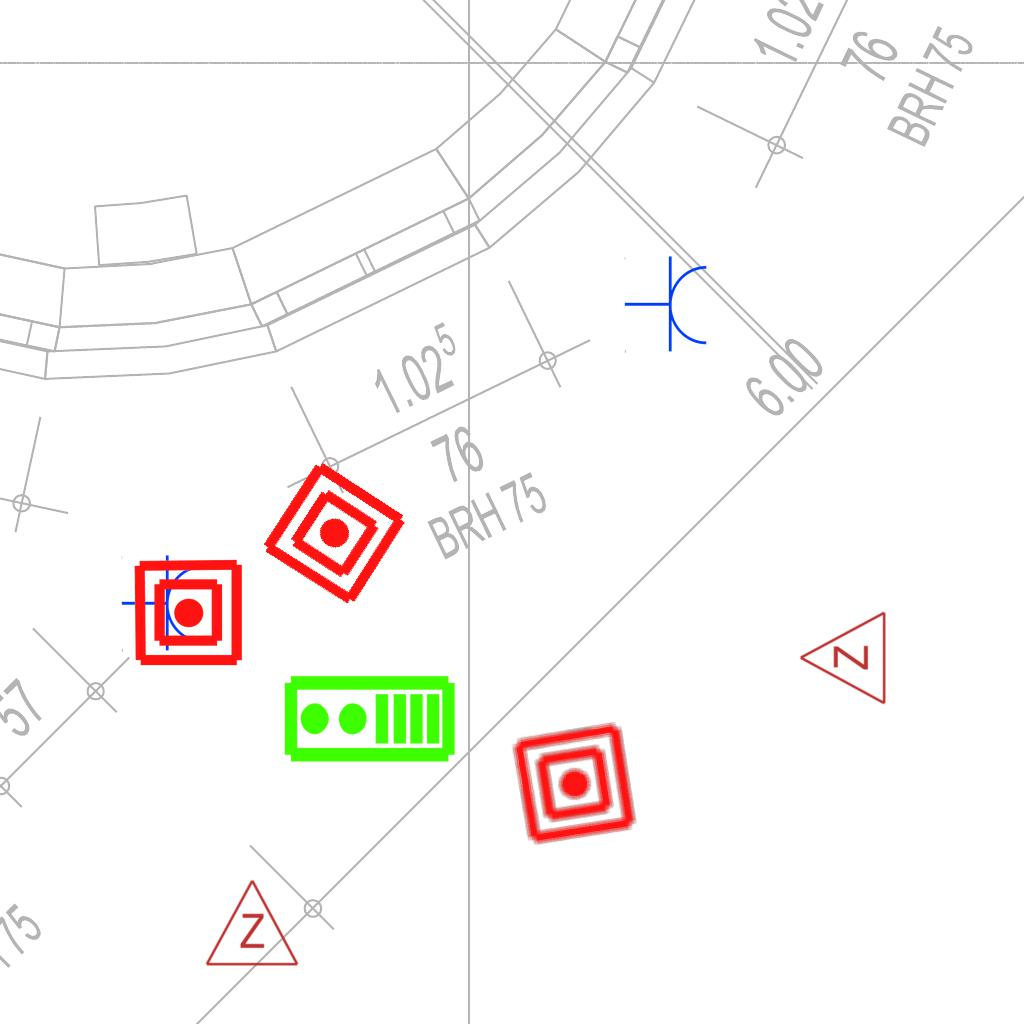Gegensprechanlage_mit_Video: (281, 673, 457, 768)
NAM-Nichtautomatischer_Melder: (256, 455, 413, 612), (509, 718, 640, 849), (132, 556, 245, 669)
Schukosteckdose_einfach: (624, 255, 711, 355), (121, 554, 208, 654)
Zimmersignalleuchte: (202, 873, 300, 973), (793, 610, 893, 708)
